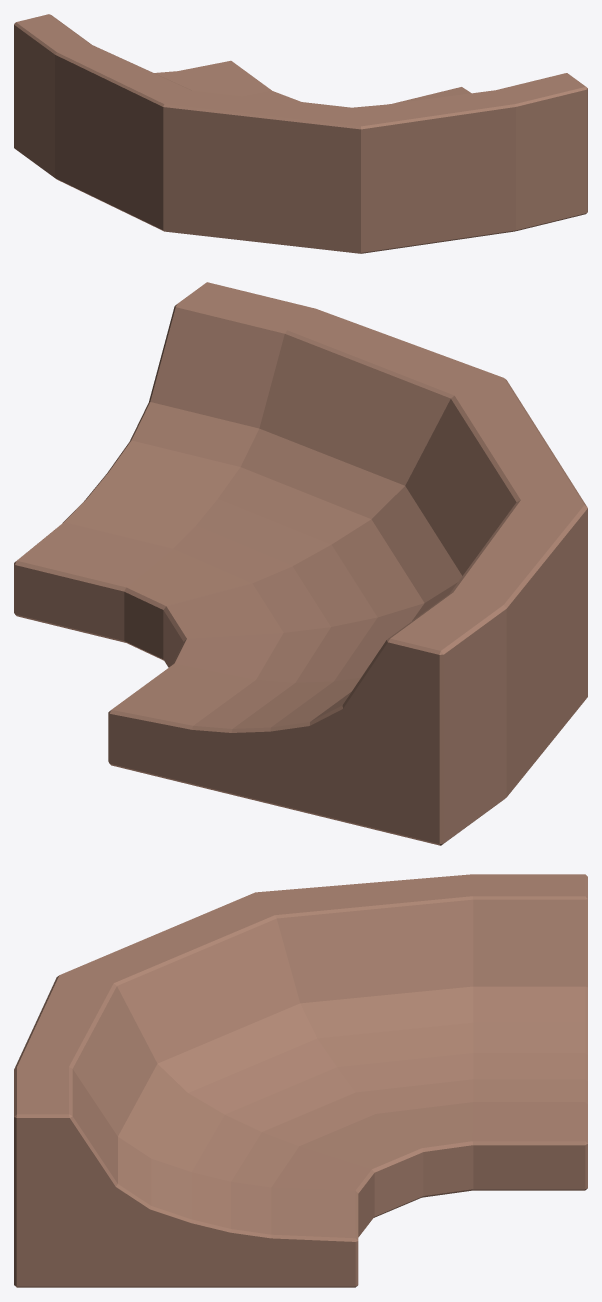
File: mesh_bigCurvedRampMod.fbx
3 renders of one model, top to bottom at view 1: azimuth 30°, elevation 25°; view 2: azimuth 150°, elevation 25°; view 3: azimuth 270°, elevation 25°, orthographic. The views are drawn at different scales.
Parts seen in each view (by area): view 1: mesh_bigCurvedRampMod; view 2: mesh_bigCurvedRampMod; view 3: mesh_bigCurvedRampMod.
Part boxes in pixels (x1,y1,x2,y2): mesh_bigCurvedRampMod: (14,14,587,253); mesh_bigCurvedRampMod: (14,282,587,845); mesh_bigCurvedRampMod: (14,874,587,1287).
Bounding box in the file's own units: 25 × 8.33 × 25.
